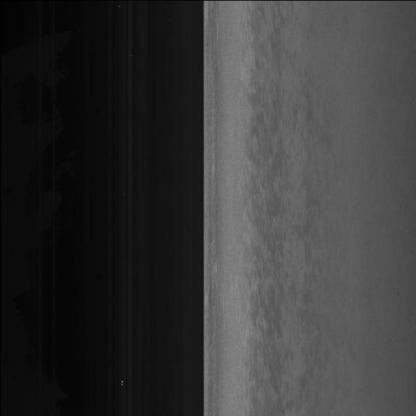silk_spot: (240, 52, 283, 389)
